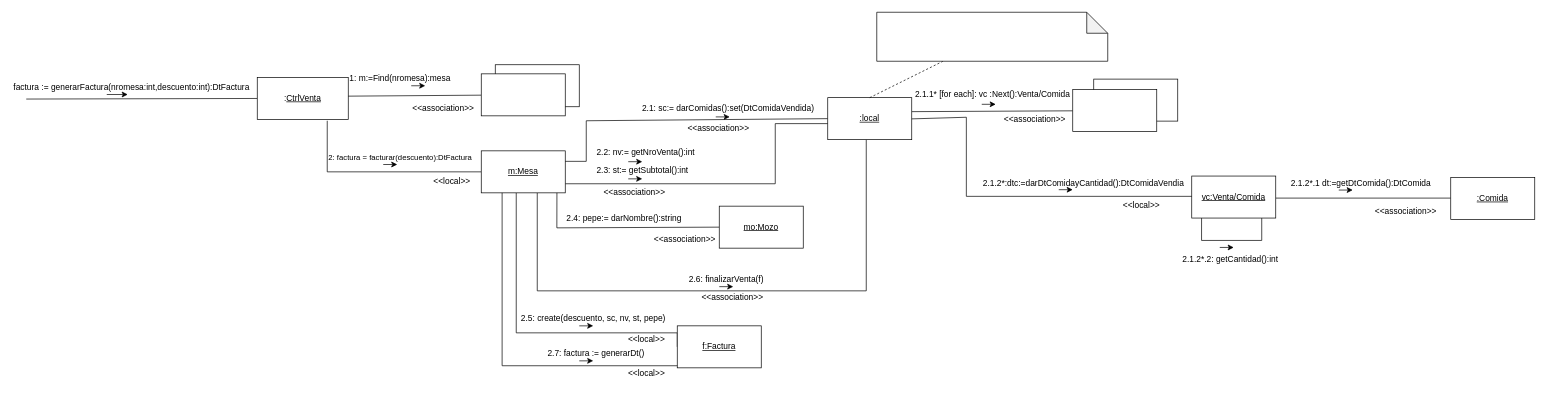
Some shapes in this 1547 by 393 pixel diagram are drawn without their labels. The shapes that lost their labels are listed below. From the top down, each one's centre as x and y in pixels, then its label:
the point at 992,36: Guarda cada DtComidaVendida y en un set que luego devuelve
the point at 523,94: :Mesa
the point at 1114,110: :Venta/Comida
